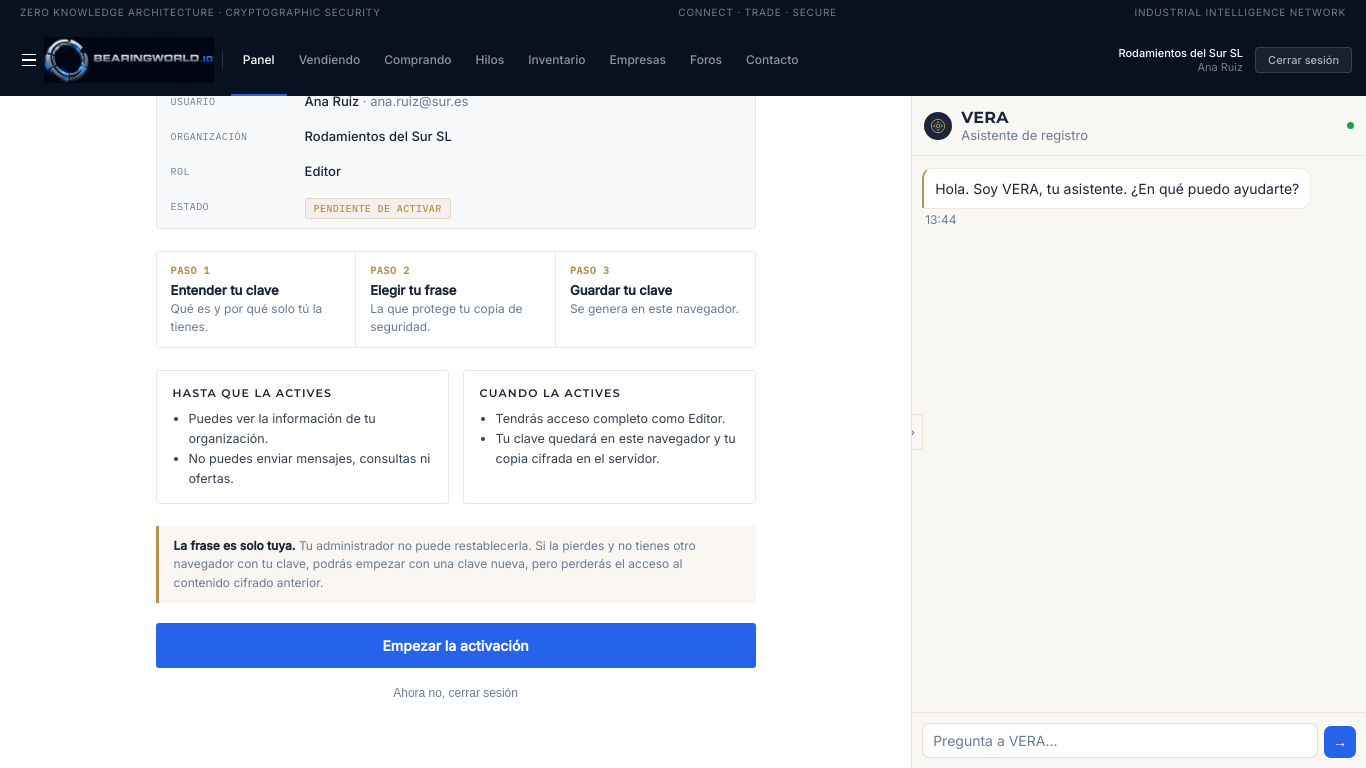
Test case: App · ACT-02 › un EDITOR REGISTERED ve «Activa tu cuenta» y, al empezar, REG-05 con los pasos de un invitado
(page scrolled)
Click the button "Empezar la activación": (456, 646) [156,623,756,668]
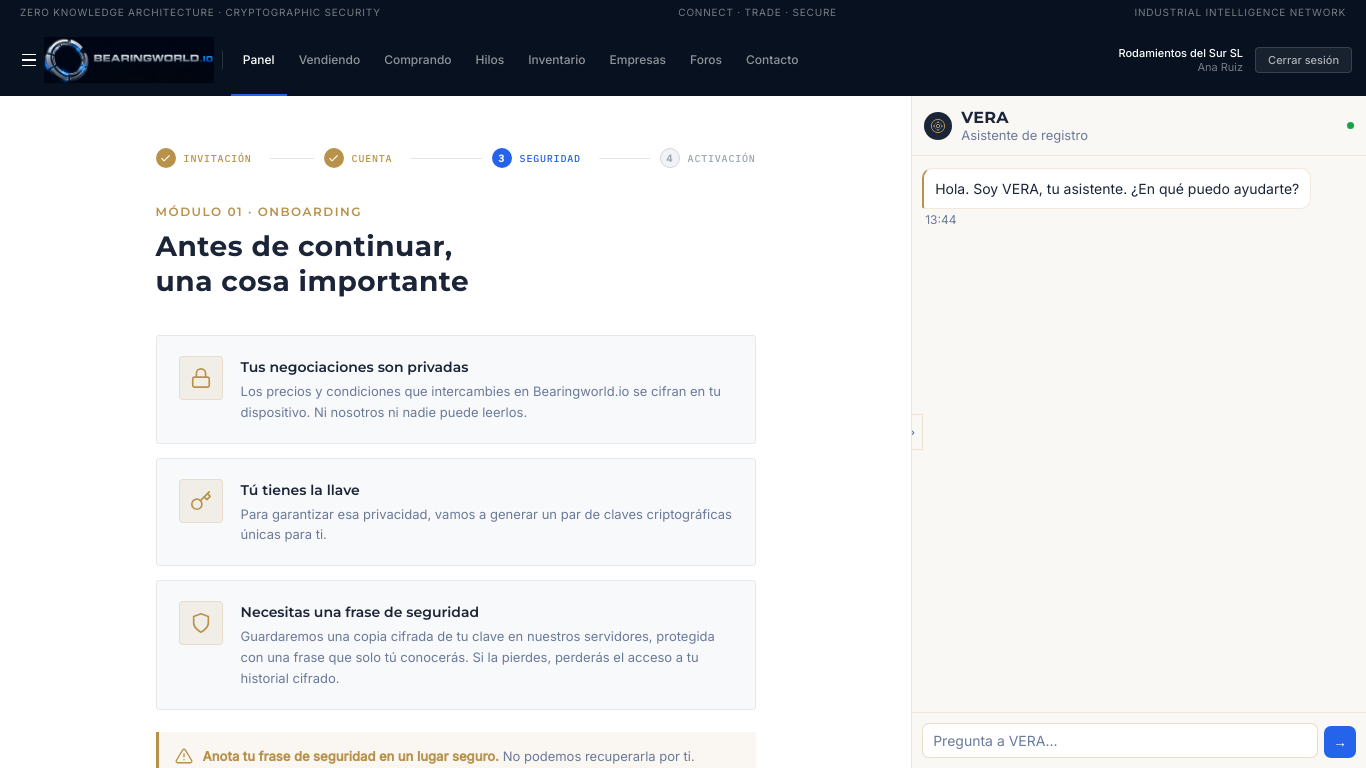
Expected: the text "Invitación" is shown, [184,152,252,164]
Expected: the text "Cuenta" is shown, [352,152,392,164]
